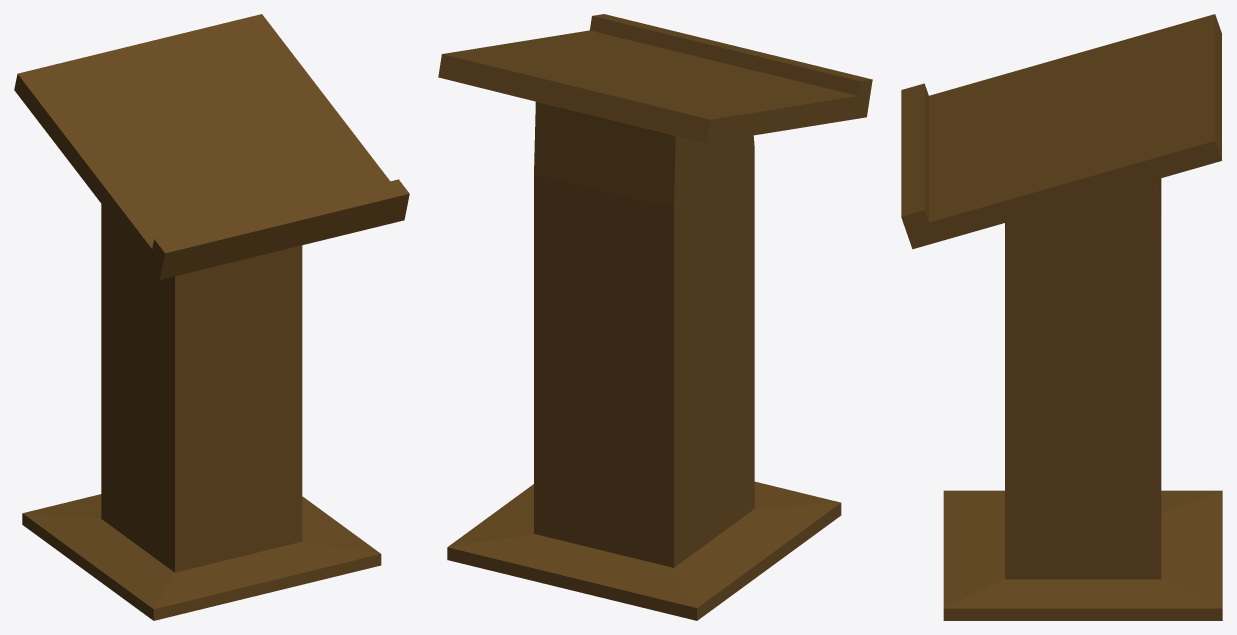
The model's file is altar.glb.
3 renders of one model, left to right at view 1: azimuth 30°, elevation 25°; view 2: azimuth 150°, elevation 25°; view 3: azimuth 270°, elevation 25°, orthographic. The views are drawn at different scales.
Visible parts, largest first — view 1: Pulpit; view 2: Pulpit; view 3: Pulpit.
Boxes of the visible parts, x1,y1,x2,y2 form: Pulpit: (14, 14, 409, 620); Pulpit: (438, 14, 872, 620); Pulpit: (901, 14, 1222, 620).
Size of the model in its own units: 9.93 by 17.69 by 10.64.
